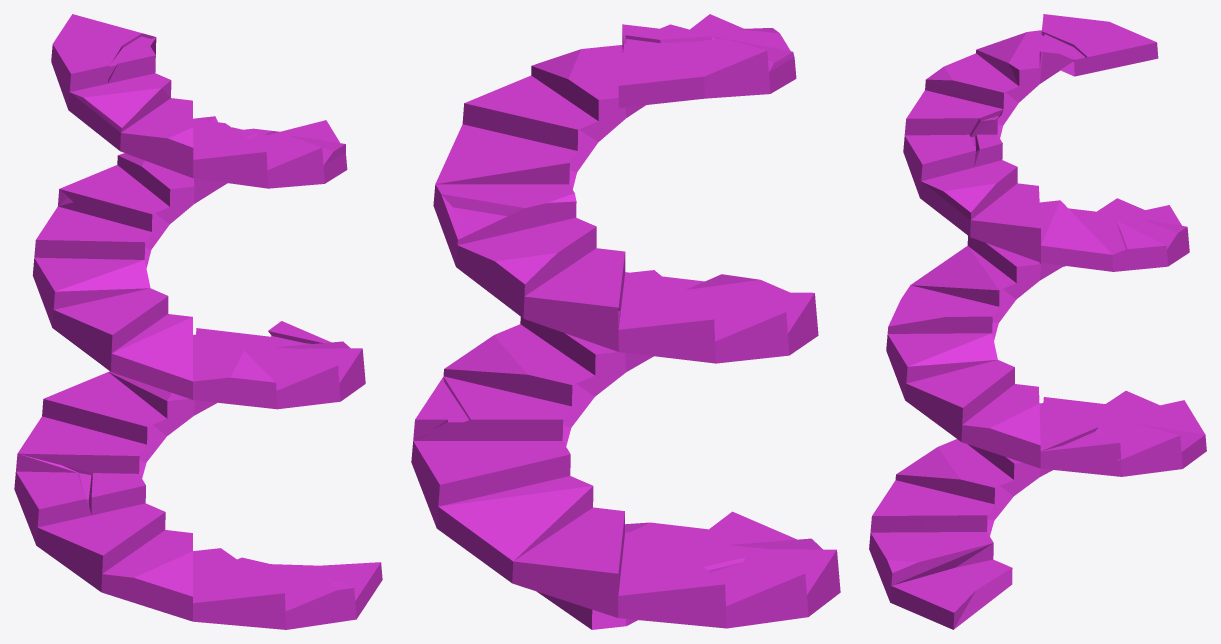
File: Stairs.fbx
3 renders of one model, left to right at view 1: azimuth 30°, elevation 25°; view 2: azimuth 150°, elevation 25°; view 3: azimuth 270°, elevation 25°, orthographic. The views are drawn at different scales.
Parts seen in each view (by area): view 1: Stair; view 2: Stair; view 3: Stair.
Boxes of the visible parts, x1,y1,x2,y2 form: Stair: (14, 14, 382, 629); Stair: (411, 14, 840, 629); Stair: (869, 14, 1206, 629).
Bounding box in the file's own units: 14.85 × 24.71 × 15.23.
